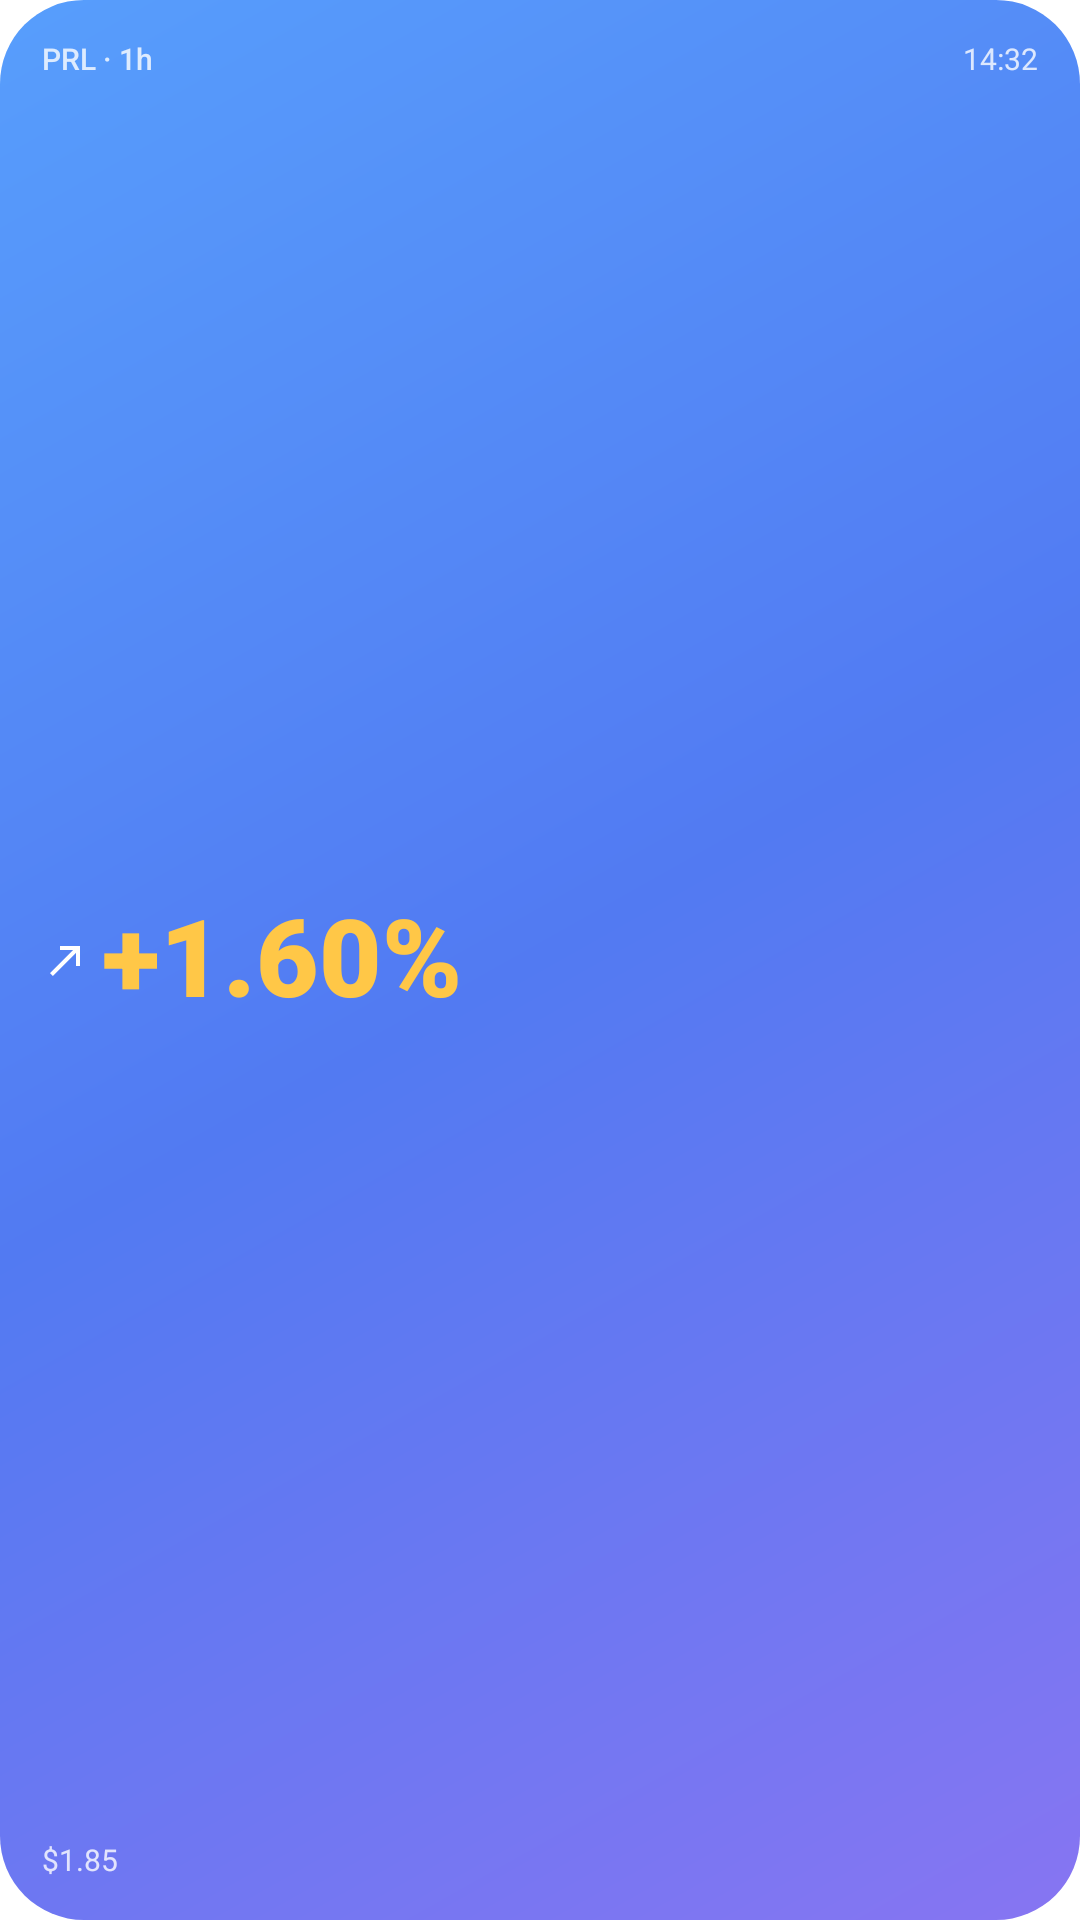

Named icons in this screenshot (1080x1920) and their centers, (x=x, y=y):
widget trend up: (x=65, y=961)
